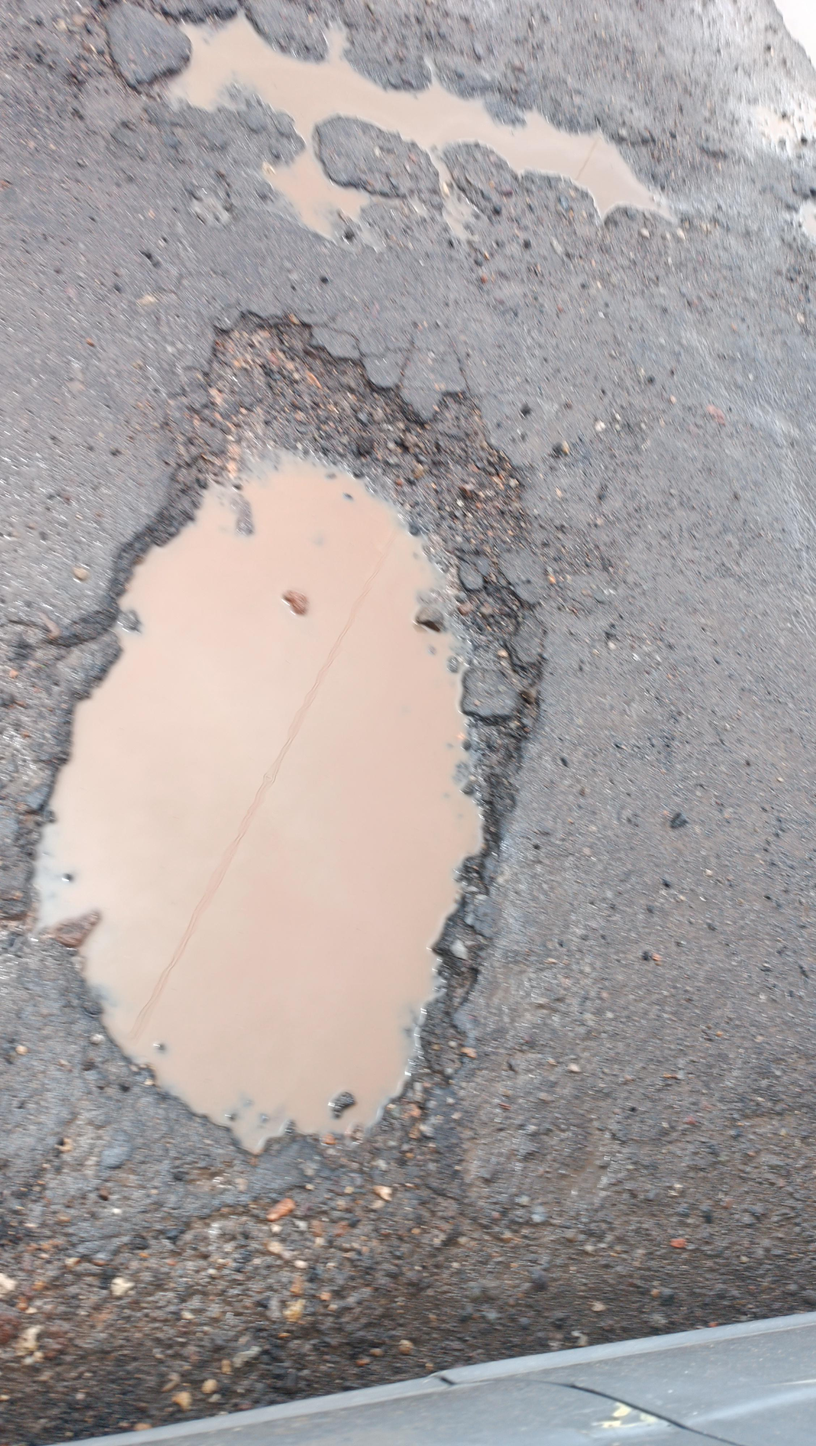BACHE: (23, 306, 536, 1165), (151, 2, 670, 219)
